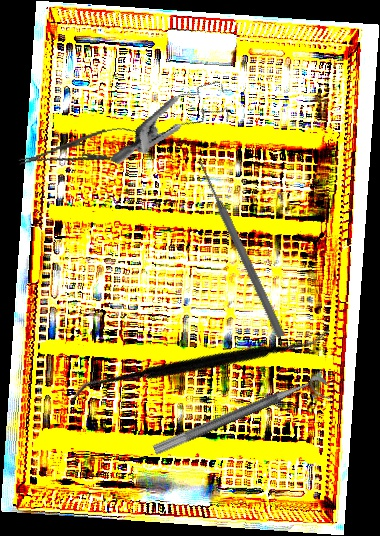Fixation Ring: (151, 371, 334, 471)
Needle Holder: (15, 120, 155, 177)
Pusher: (193, 157, 288, 339)
Spatula Surgical: (68, 234, 333, 497)
Speculum: (109, 53, 243, 201)
